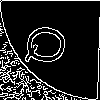Q: (24, 24, 74, 65)
